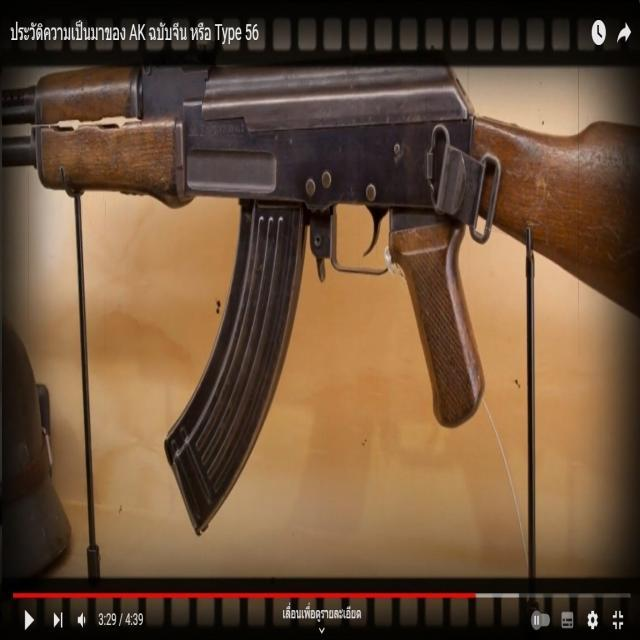ak: (0, 59, 640, 542)
